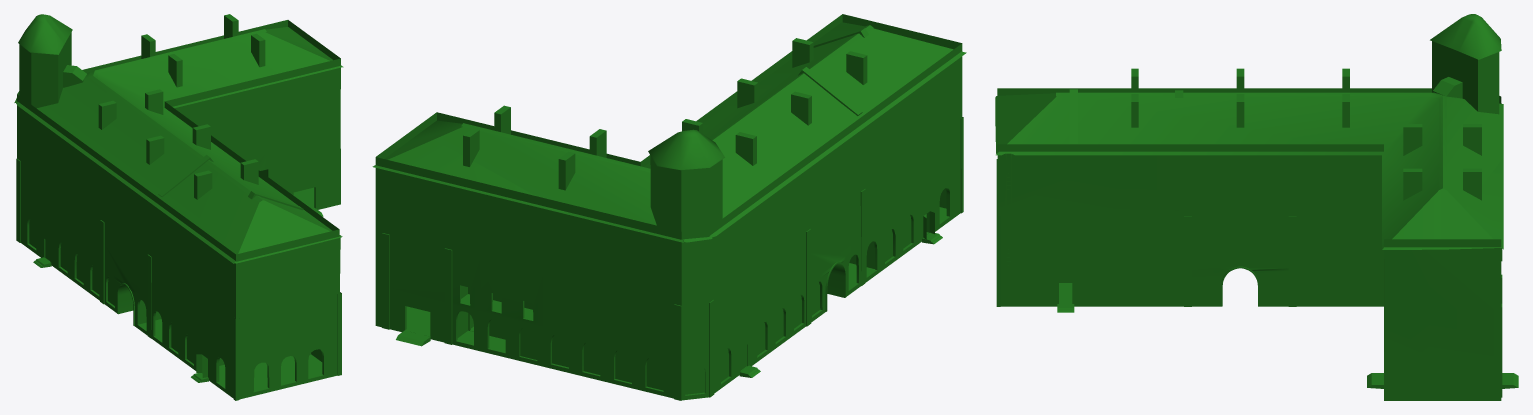
File: Building_City_03_3Collision.FBX
3 views of the same model, side by side, from view 1: azimuth 30°, elevation 25°; view 2: azimuth 150°, elevation 25°; view 3: azimuth 270°, elevation 25° (orthographic). The views are drawn at different scales.
Visible parts, largest first — view 1: Building_City_03_3Collision, Building_City_03_3Roof_Collision, Building_City_03_3Tower_Collision, Building_City_03_3Tube_Collision; view 2: Building_City_03_3Collision, Building_City_03_3Roof_Collision, Building_City_03_3Tower_Collision, Building_City_03_3Tube_Collision; view 3: Building_City_03_3Collision, Building_City_03_3Roof_Collision, Building_City_03_3Tower_Collision, Building_City_03_3Tube_Collision.
Part boxes in pixels (x1,y1,x2,y2): Building_City_03_3Collision: (16,67,341,400); Building_City_03_3Roof_Collision: (14,20,343,263); Building_City_03_3Tower_Collision: (18,14,86,108); Building_City_03_3Tube_Collision: (98,14,265,199); Building_City_03_3Collision: (375,56,963,400); Building_City_03_3Roof_Collision: (372,14,966,242); Building_City_03_3Tower_Collision: (648,129,724,231); Building_City_03_3Tube_Collision: (463,38,867,190); Building_City_03_3Collision: (996,153,1518,400); Building_City_03_3Roof_Collision: (995,88,1503,249); Building_City_03_3Tower_Collision: (1430,14,1501,114); Building_City_03_3Tube_Collision: (1131,68,1481,200).
Size of the model in its own units: 3722 by 5215 by 2719.
